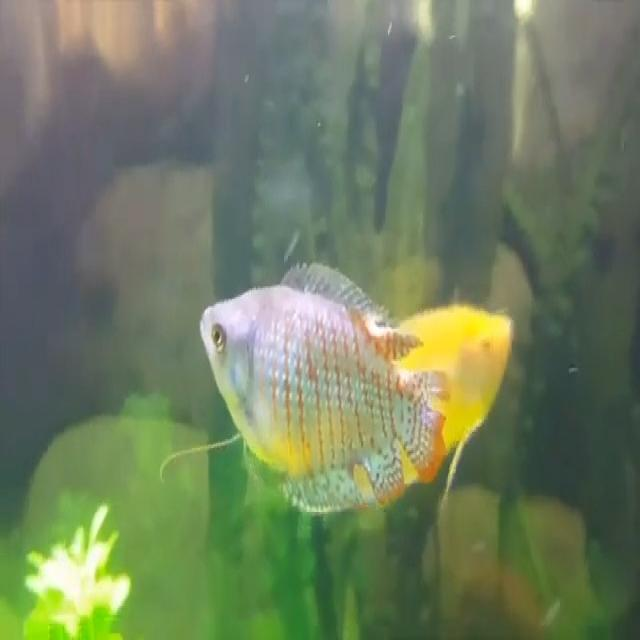fish: (199, 260, 453, 514), (396, 285, 521, 481)
